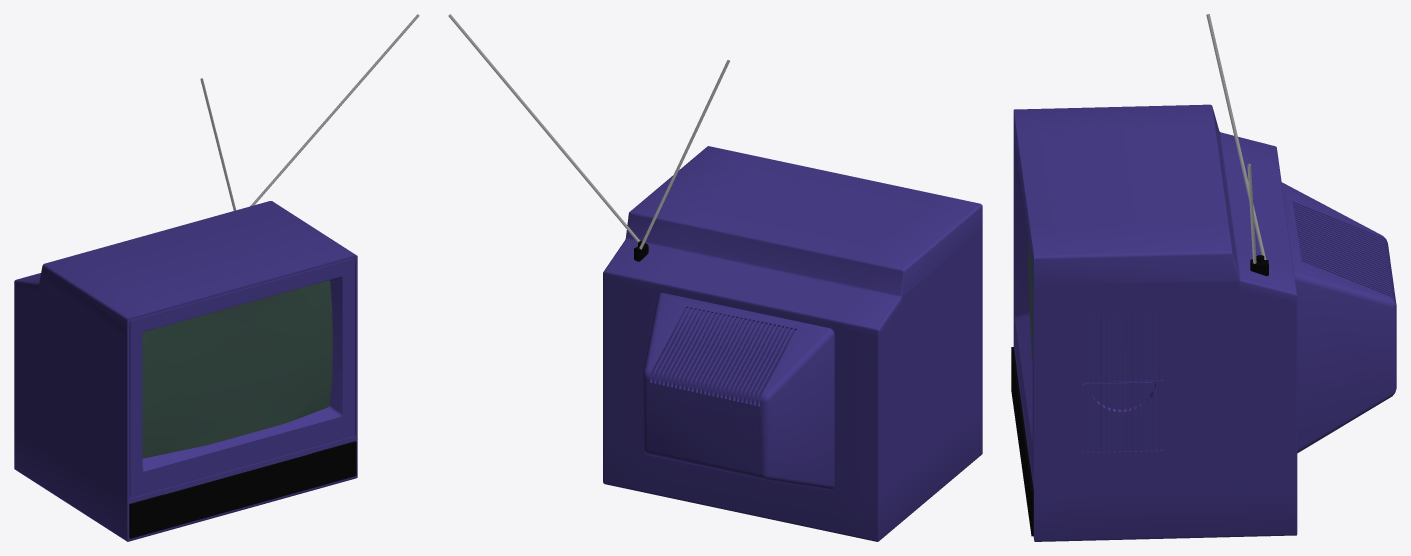
3 views of the same model, side by side, from view 1: azimuth 30°, elevation 25°; view 2: azimuth 150°, elevation 25°; view 3: azimuth 270°, elevation 25° (orthographic). The views are drawn at different scales.
Visible parts, largest first — view 1: case, screen, Vert.001; view 2: case, Vert.001; view 3: case, Vert.001.
Boxes of the visible parts, box(x1,y1,x2,y2) form: case: box(14, 201, 357, 541); screen: box(142, 280, 332, 458); Vert.001: box(200, 14, 419, 210); case: box(603, 146, 982, 541); Vert.001: box(448, 14, 729, 249); case: box(1011, 104, 1396, 541); Vert.001: box(1206, 14, 1266, 263).
Bounding box in the file's own units: 3.31 × 2.97 × 2.19.
